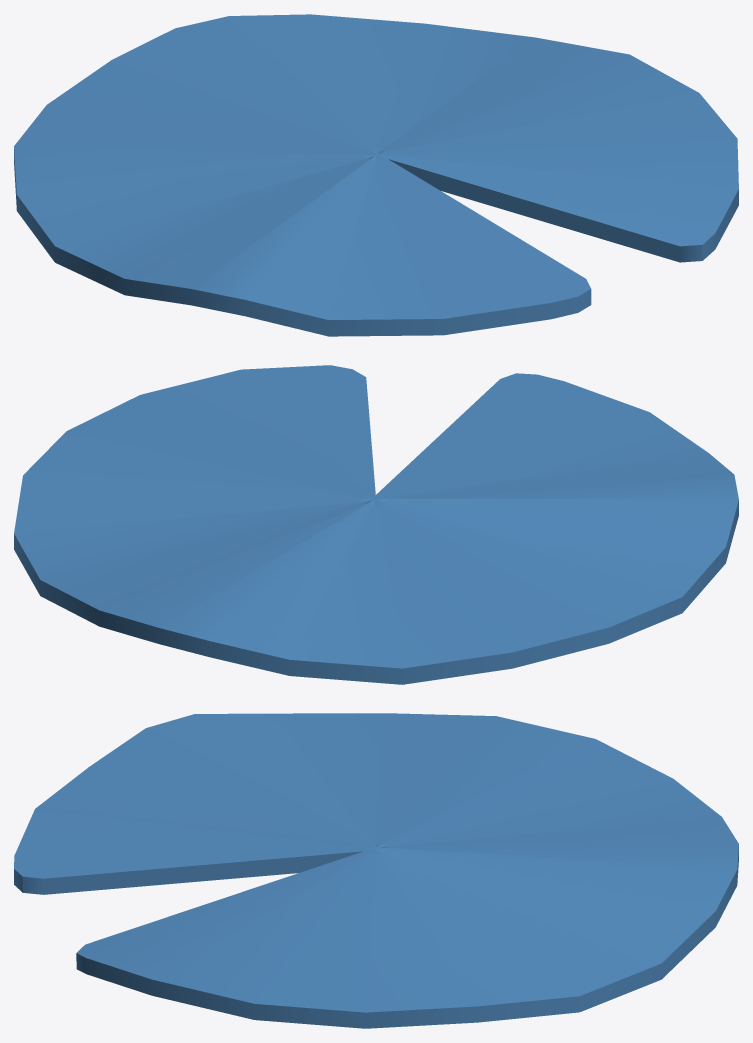
File: LilyPad_Dark (1).fbx
3 renders of one model, top to bottom at view 1: azimuth 30°, elevation 25°; view 2: azimuth 150°, elevation 25°; view 3: azimuth 270°, elevation 25°, orthographic.
Parts seen in each view (by area): view 1: LilyPad_Dark (1); view 2: LilyPad_Dark (1); view 3: LilyPad_Dark (1).
Boxes of the visible parts, box(x1,y1,x2,y2) form: LilyPad_Dark (1): box(14, 14, 738, 336); LilyPad_Dark (1): box(14, 365, 738, 684); LilyPad_Dark (1): box(14, 713, 738, 1028).
Size of the model in its own units: 0.8472 by 0.0506 by 0.8505.
